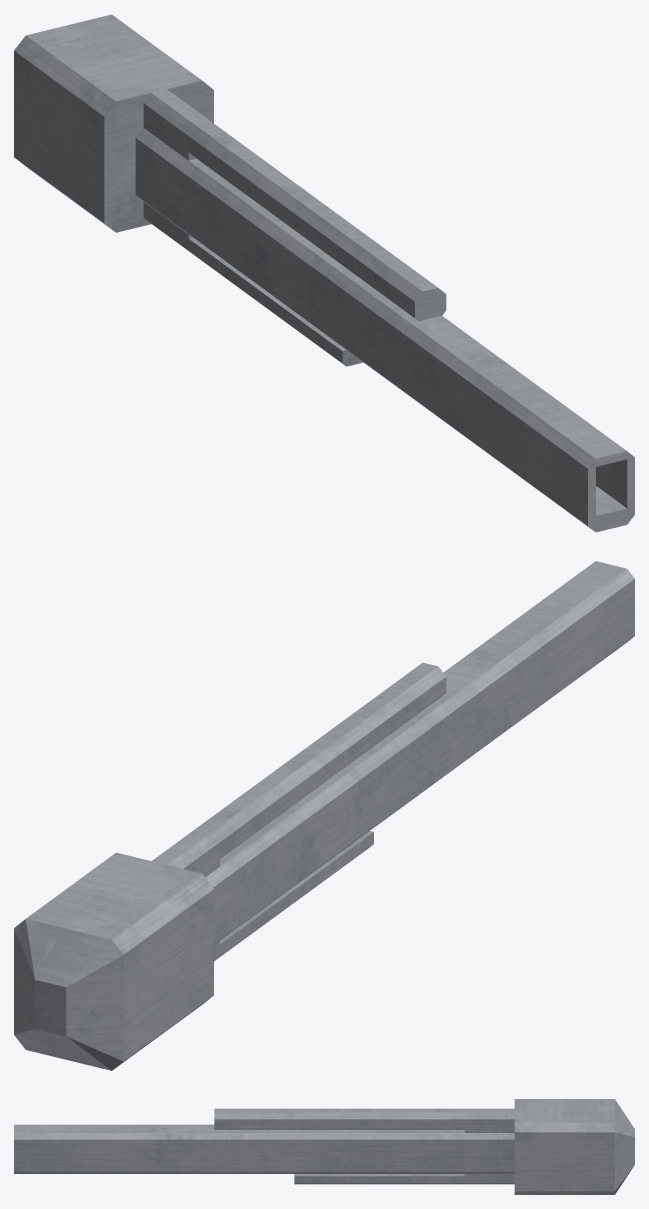
Rendered from Stationary-Weapon-RailGun.obj.
The picture shows the model from 3 angles, top to bottom: view 1: azimuth 30°, elevation 25°; view 2: azimuth 150°, elevation 25°; view 3: azimuth 270°, elevation 25°; orthographic projection. The views are drawn at different scales.
Visible parts, largest first — view 1: Stationary-Weapon-RailGun; view 2: Stationary-Weapon-RailGun; view 3: Stationary-Weapon-RailGun.
Part boxes in pixels (left/top/right/bottom): Stationary-Weapon-RailGun: left=14, top=14, right=634, bottom=532; Stationary-Weapon-RailGun: left=14, top=561, right=634, bottom=1070; Stationary-Weapon-RailGun: left=14, top=1099, right=634, bottom=1194.
Size of the model in its own units: 1.4 by 1.6 by 12.4.
